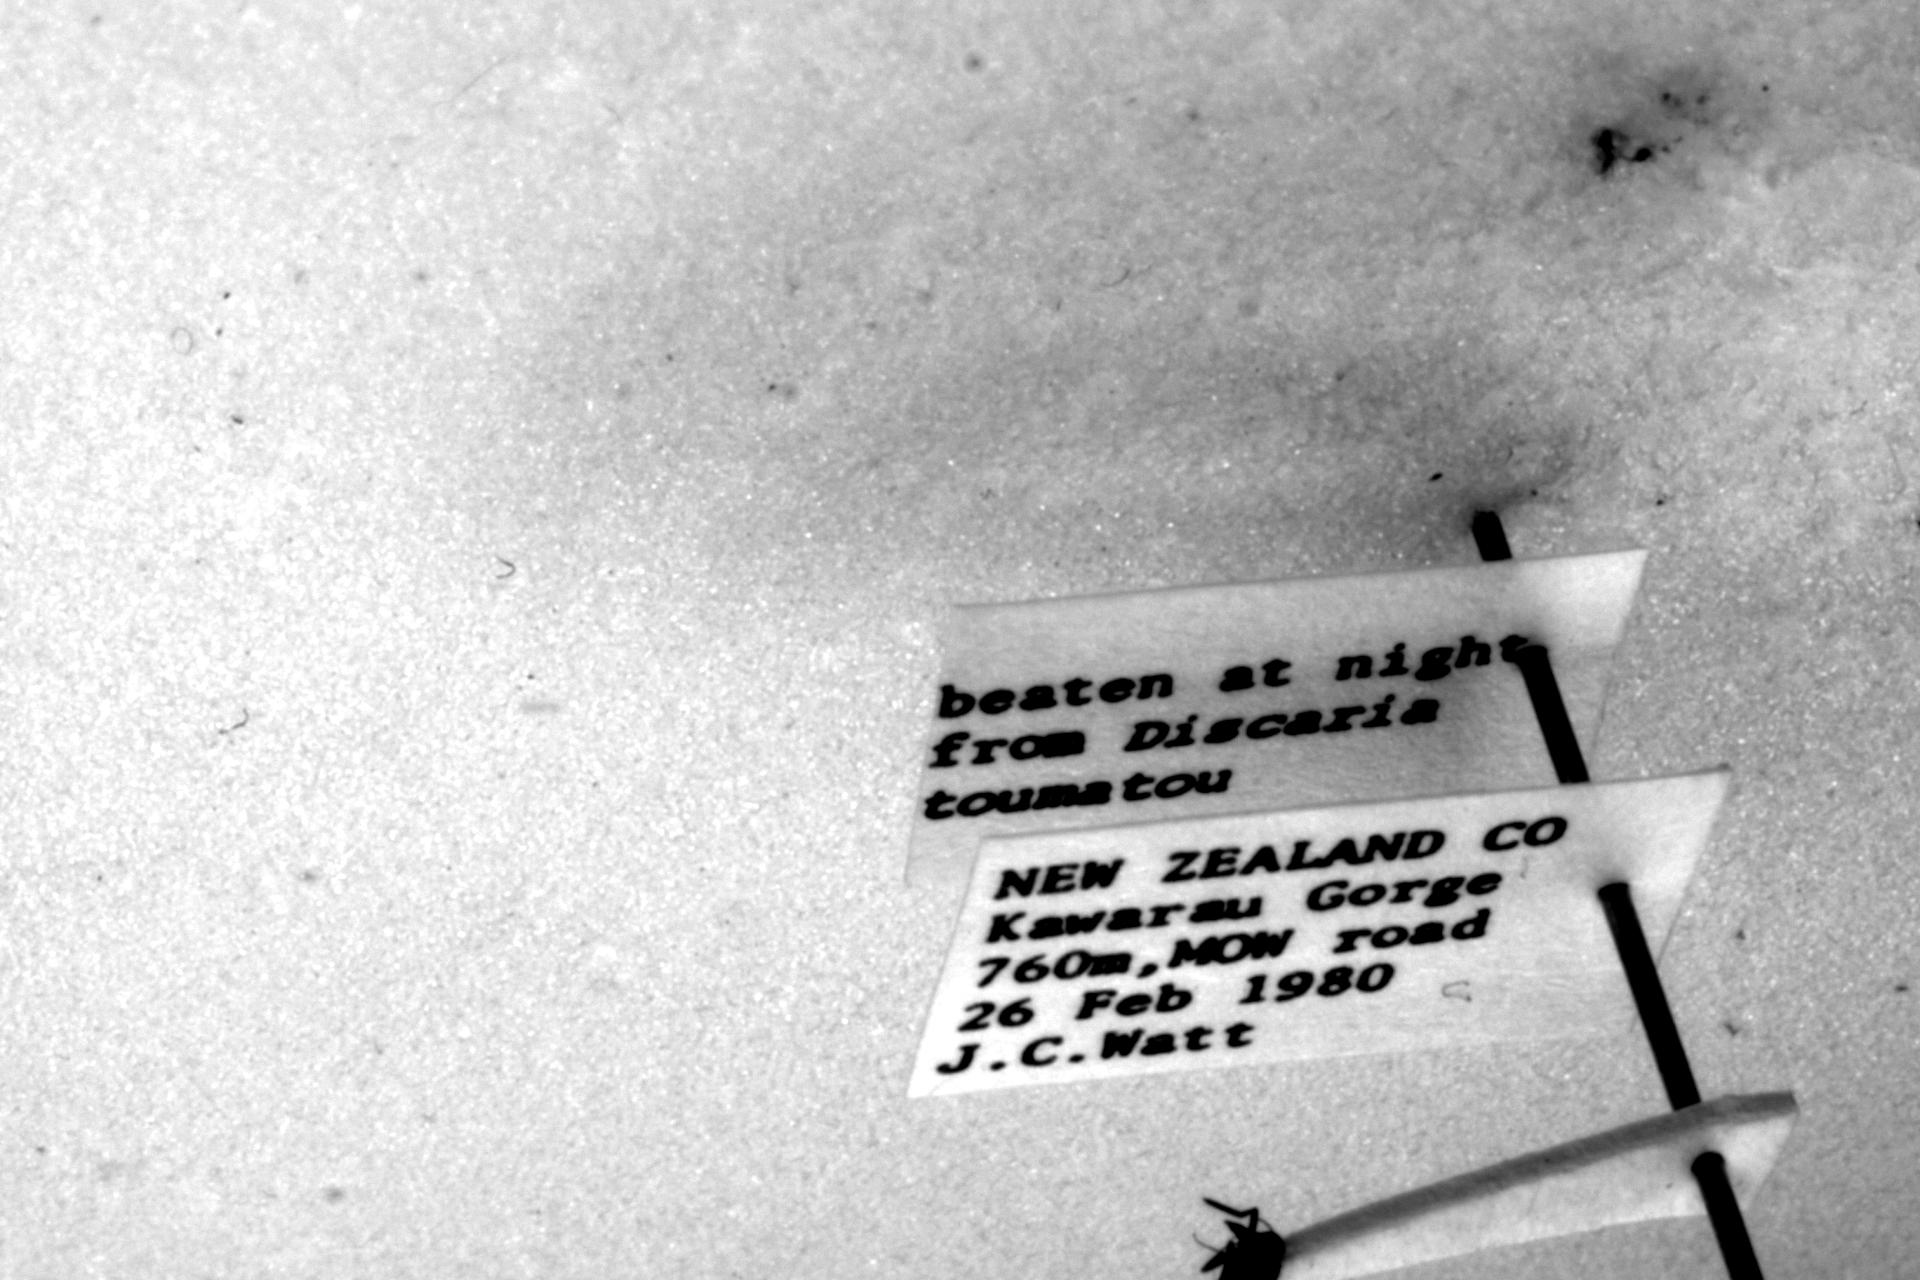typed_label: (908, 769, 1729, 1099), (908, 551, 1646, 881)
